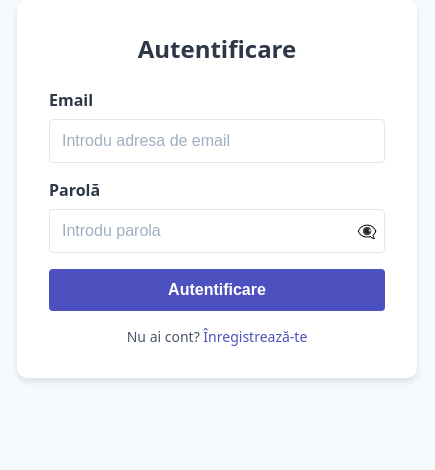
Test case: Login Page Tests › should show error message on failed login
Note: Completează formularul
Type "wrong@example.com" into the field labelled "Email" at [217, 141], box [49, 119, 385, 163]
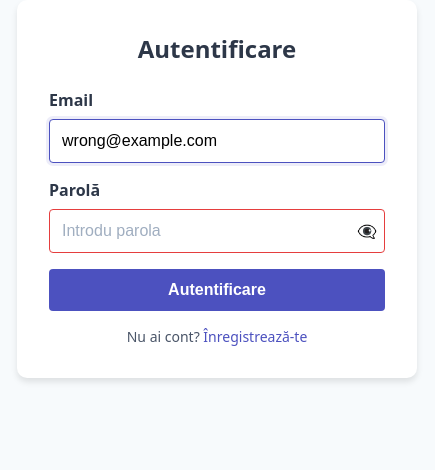
Type "wrongpassword" into the password field labelled "Parolă" at [217, 231], box [49, 209, 385, 253]
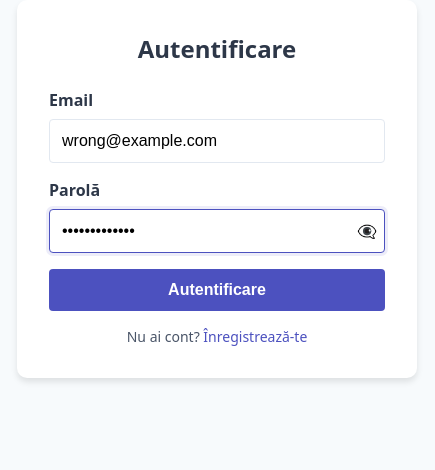
Note: Trimite formularul
Click the button "Autentificare" at [217, 290], box [49, 269, 385, 311]
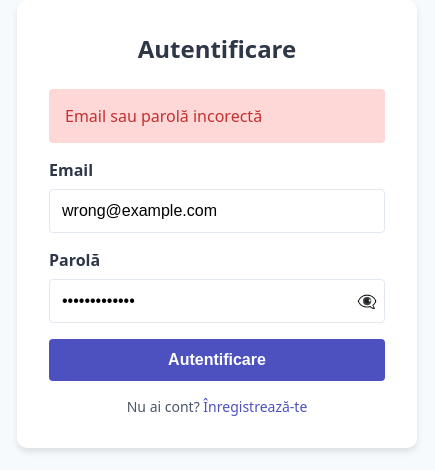
Expected: the text "Email sau parolă incorectă" is shown, [49, 89, 385, 143]
